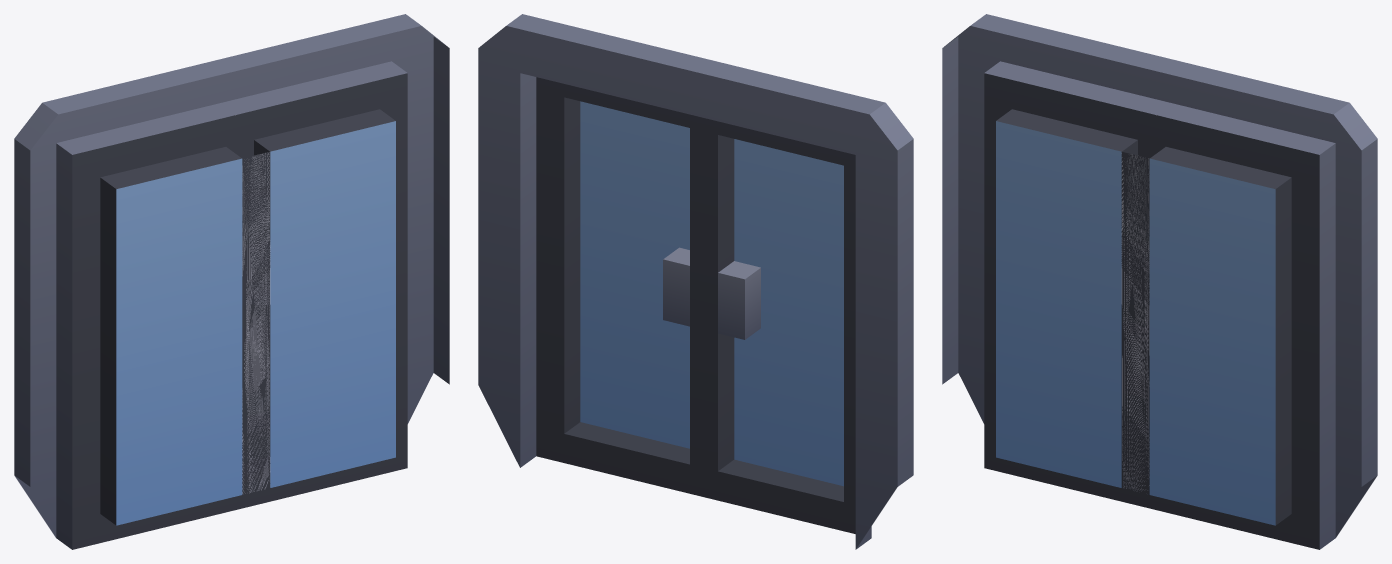
Rendered from puerta-tienda.glb.
3 views of the same model, side by side, from view 1: azimuth 30°, elevation 25°; view 2: azimuth 150°, elevation 25°; view 3: azimuth 330°, elevation 25° (orthographic).
Parts seen in each view (by area): view 1: hoja-i, hoja-d, marco; view 2: marco, hoja-d, hoja-i; view 3: hoja-d, hoja-i, marco.
Boxes of the visible parts, <box> form: hoja-i: <box>56,73,406,549</box>; hoja-d: <box>59,61,407,549</box>; marco: <box>14,14,449,549</box>; marco: <box>478,14,913,549</box>; hoja-d: <box>536,77,855,533</box>; hoja-i: <box>566,118,855,532</box>; hoja-d: <box>986,62,1335,549</box>; hoja-i: <box>984,61,1317,494</box>; marco: <box>942,14,1377,549</box>.
Size of the model in its own units: 0.3 by 0.3 by 0.04.
Materials: 1 (1 with a texture image).
